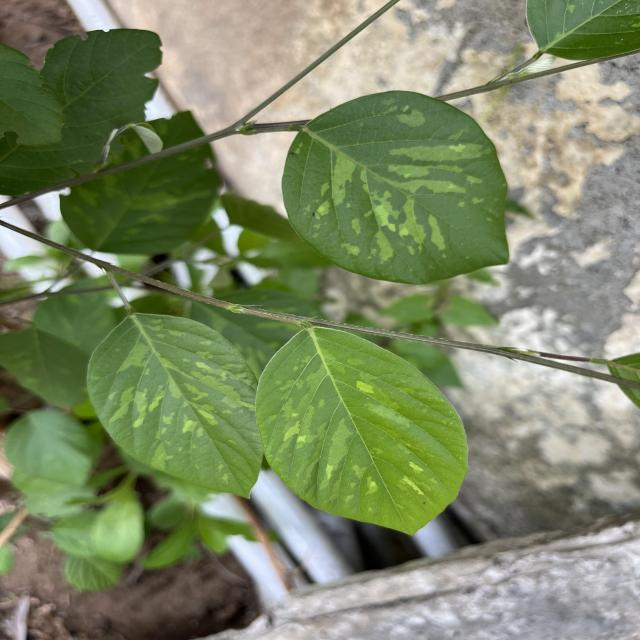Desmodium gangeticum: (278, 88, 516, 288), (253, 324, 471, 538), (82, 308, 262, 501)
